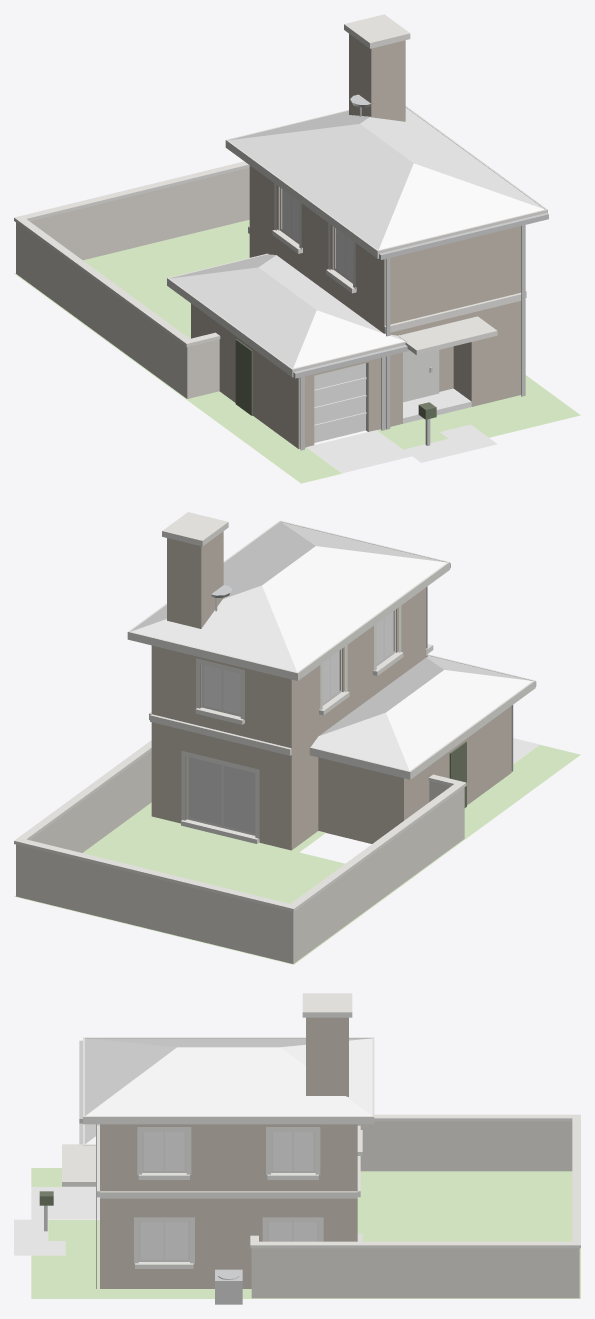
Rendered from house_tract236.glb.
The picture shows the model from 3 angles, top to bottom: view 1: azimuth 30°, elevation 25°; view 2: azimuth 150°, elevation 25°; view 3: azimuth 270°, elevation 25°; orthographic projection. The views are drawn at different scales.
Visible parts, largest first — view 1: house_tract236_Roof, house_tract236_Walls, house_tract236_Walls2, house_tract236_Lawn, house_tract236_Trim, house_tract236_Site, house_tract236_Details, house_tract236_Doors, house_tract236_Frames, house_tract236_Accent, house_tract236_Glass; view 2: house_tract236_Walls, house_tract236_Roof, house_tract236_Walls2, house_tract236_Trim, house_tract236_Lawn, house_tract236_WindowsLit, house_tract236_Glass, house_tract236_Frames, house_tract236_Accent, house_tract236_Details; view 3: house_tract236_Walls, house_tract236_Walls2, house_tract236_Lawn, house_tract236_Roof, house_tract236_Trim, house_tract236_Glass, house_tract236_Site, house_tract236_Details, house_tract236_Frames.
Boxes of the visible parts, x1,y1,x2,y2 form: house_tract236_Roof: (170, 107, 544, 368); house_tract236_Walls: (191, 34, 521, 448); house_tract236_Walls2: (16, 167, 249, 398); house_tract236_Lawn: (14, 219, 580, 483); house_tract236_Trim: (14, 14, 547, 431); house_tract236_Site: (307, 388, 497, 473); house_tract236_Details: (293, 94, 548, 450); house_tract236_Doors: (314, 363, 366, 442); house_tract236_Frames: (280, 187, 439, 402); house_tract236_Accent: (235, 339, 436, 419); house_tract236_Glass: (282, 189, 352, 281); house_tract236_Walls: (151, 531, 511, 850); house_tract236_Roof: (131, 522, 532, 770); house_tract236_Walls2: (16, 751, 464, 963); house_tract236_Trim: (14, 512, 535, 912); house_tract236_Lawn: (14, 745, 580, 964); house_tract236_WindowsLit: (189, 757, 255, 833); house_tract236_Glass: (204, 611, 393, 714); house_tract236_Frames: (187, 609, 395, 835); house_tract236_Accent: (449, 741, 466, 807); house_tract236_Details: (211, 563, 536, 771); house_tract236_Walls: (100, 1017, 357, 1288); house_tract236_Walls2: (251, 1121, 579, 1298); house_tract236_Lawn: (31, 1168, 580, 1298); house_tract236_Roof: (85, 1038, 372, 1144); house_tract236_Trim: (62, 993, 580, 1268); house_tract236_Glass: (140, 1131, 316, 1259); house_tract236_Site: (14, 1187, 99, 1255); house_tract236_Details: (44, 1040, 242, 1304); house_tract236_Frames: (138, 1131, 318, 1261).
Bounding box in the file's own units: 37.5 × 35.1 × 66.
